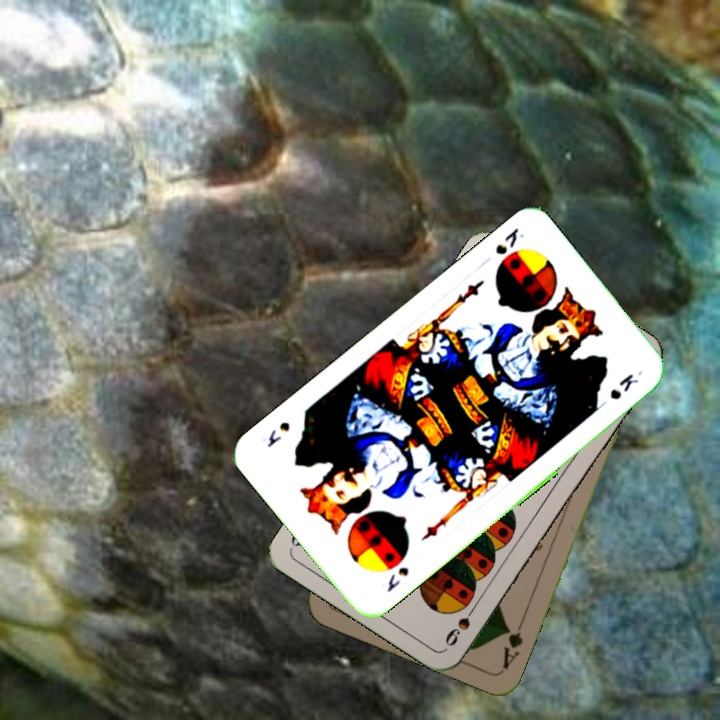GA: (498, 614, 528, 672)
S9: (440, 597, 481, 649)
SK: (491, 223, 527, 258), (383, 562, 412, 596)
